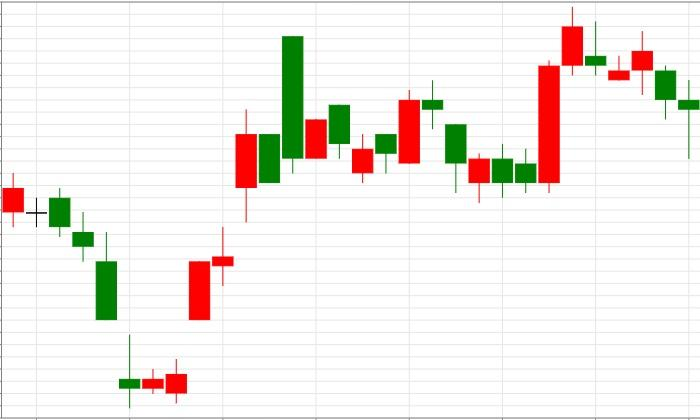bullish_engulfing_rise: (422, 60, 560, 204)
